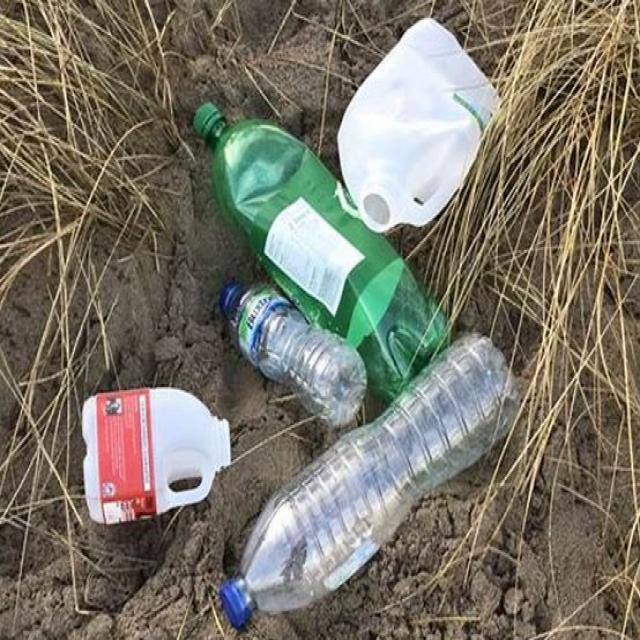plastic: (218, 328, 523, 635), (191, 90, 448, 404), (334, 15, 505, 236), (219, 274, 368, 430), (79, 384, 236, 527)
